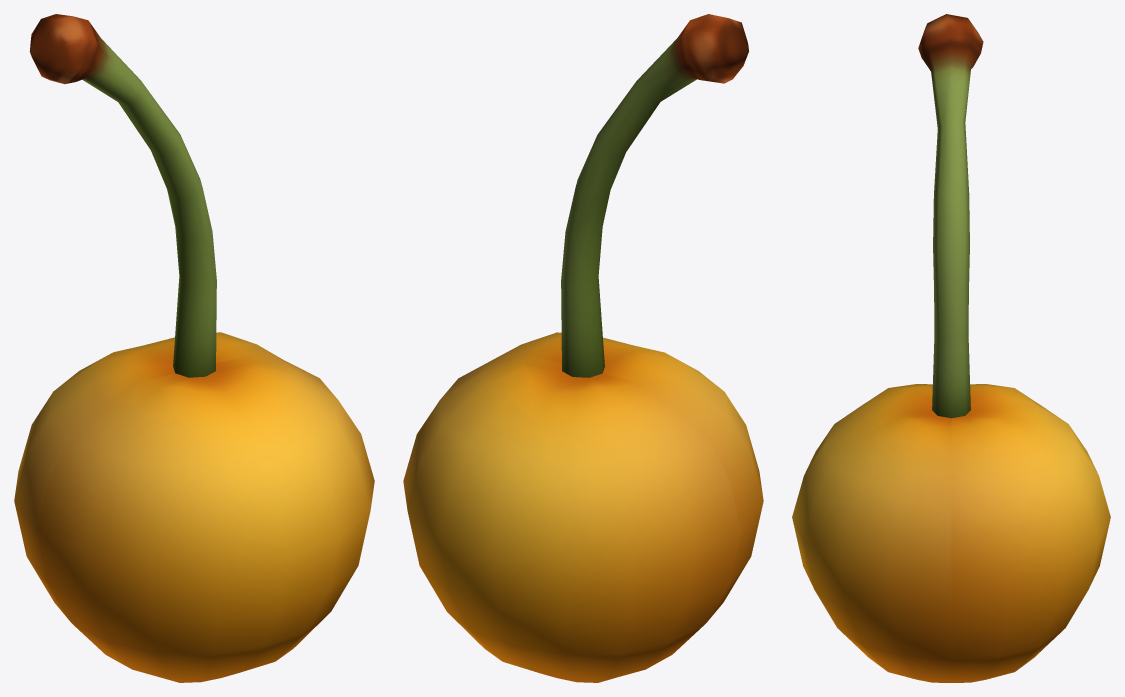
Rendered from Cherry_Yellow.fbx.
3 views of the same model, side by side, from view 1: azimuth 30°, elevation 25°; view 2: azimuth 150°, elevation 25°; view 3: azimuth 270°, elevation 25° (orthographic). The views are drawn at different scales.
Parts seen in each view (by area): view 1: Cherry_Yellow; view 2: Cherry_Yellow; view 3: Cherry_Yellow.
Part boxes in pixels (x1,y1,x2,y2): Cherry_Yellow: (14, 14, 374, 682); Cherry_Yellow: (403, 14, 763, 682); Cherry_Yellow: (792, 14, 1110, 682).
Size of the model in its own units: 14.95 by 30.2 by 14.61.
